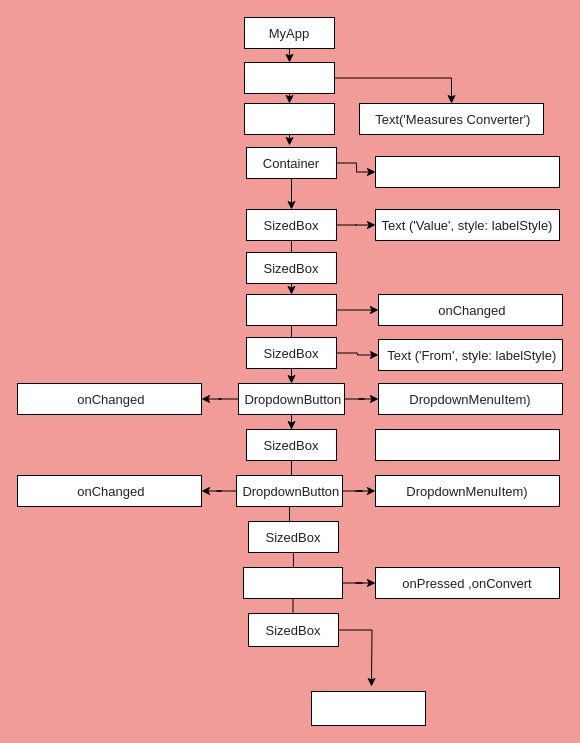
Image size: 580x743. Some labels were removed from this diagram. The shapes that lost their labels are listed below. From the top down, each one's box as (x1, y1, x2, y2) in pixels, then its label:
(244, 62, 334, 94): Scaffold
(244, 102, 334, 134): AppBar
(374, 156, 560, 188): SingleChildScrollView
(246, 294, 336, 326): TextField
(374, 428, 560, 460): Text ('To', style: labelStyle)
(242, 566, 342, 598): ElevatedButton
(310, 690, 426, 726): Text
